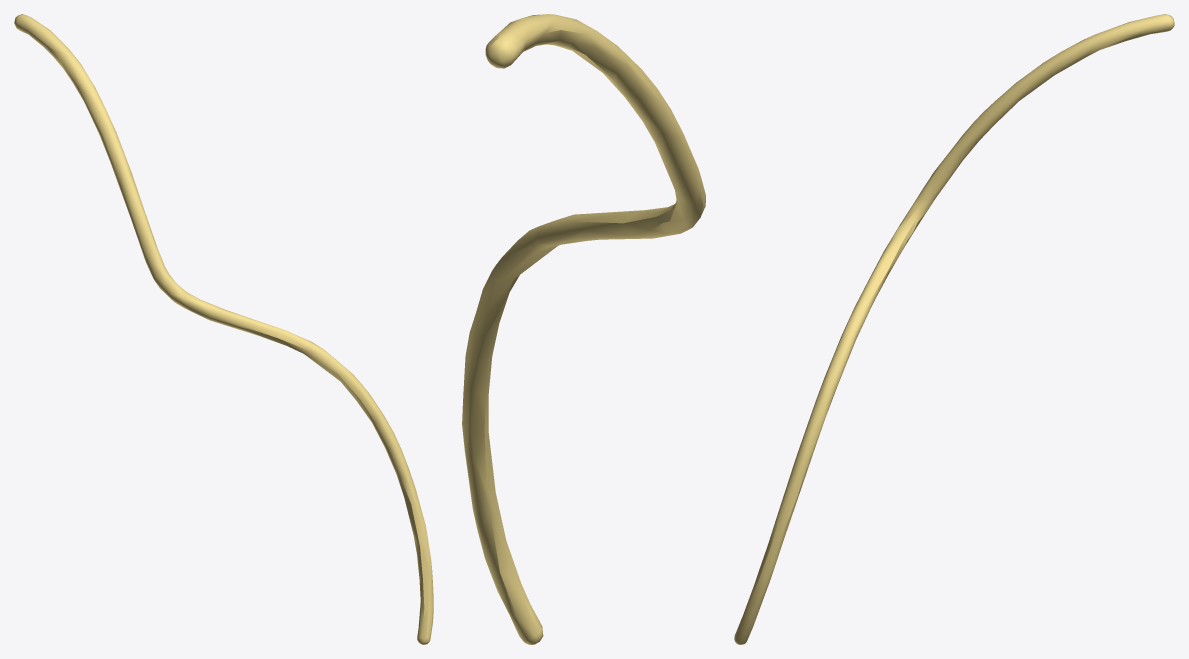
File: fma52998_fj3951.glb
3 renders of one model, left to right at view 1: azimuth 30°, elevation 25°; view 2: azimuth 150°, elevation 25°; view 3: azimuth 270°, elevation 25°, orthographic. The views are drawn at different scales.
Parts seen in each view (by area): view 1: FMA52998_FJ3951; view 2: FMA52998_FJ3951; view 3: FMA52998_FJ3951.
Part boxes in pixels (x1,y1,x2,y2): FMA52998_FJ3951: (14,14,433,644); FMA52998_FJ3951: (462,14,705,644); FMA52998_FJ3951: (734,14,1174,644).
Bounding box in the file's own units: 0.0181 × 0.0416 × 0.0311.
